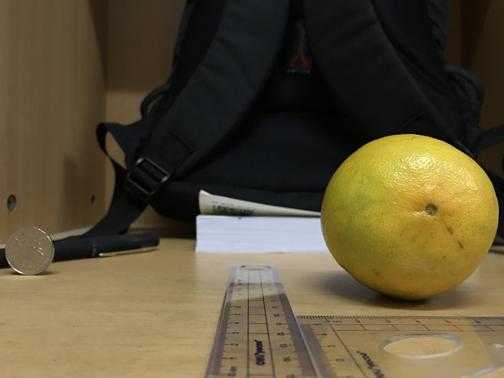coin: (8, 225, 53, 274)
orange: (320, 131, 498, 301)
